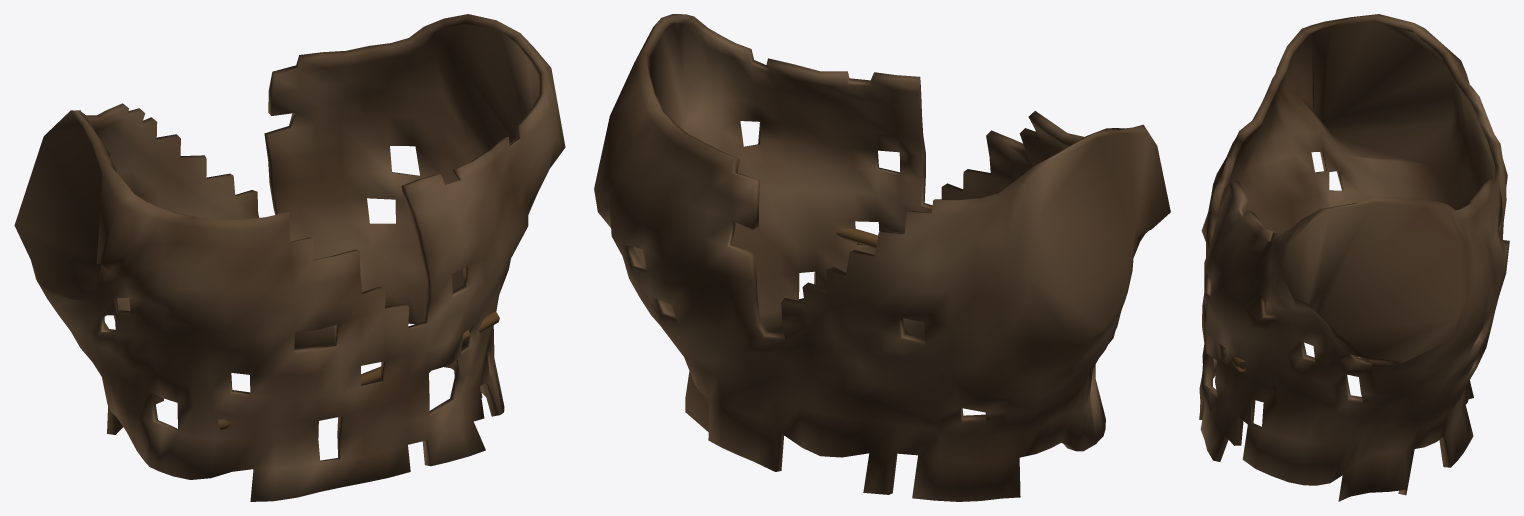
File: torn_hide.glb
3 renders of one model, left to right at view 1: azimuth 30°, elevation 25°; view 2: azimuth 150°, elevation 25°; view 3: azimuth 270°, elevation 25°, orthographic. The views are drawn at different scales.
Parts seen in each view (by area): view 1: torn_hide; view 2: torn_hide; view 3: torn_hide.
Part boxes in pixels (<box>): torn_hide: <box>14,14,565,501</box>; torn_hide: <box>594,14,1170,501</box>; torn_hide: <box>1199,14,1509,501</box>.
Bounding box in the file's own units: 0.2359 × 0.1783 × 0.1495.
